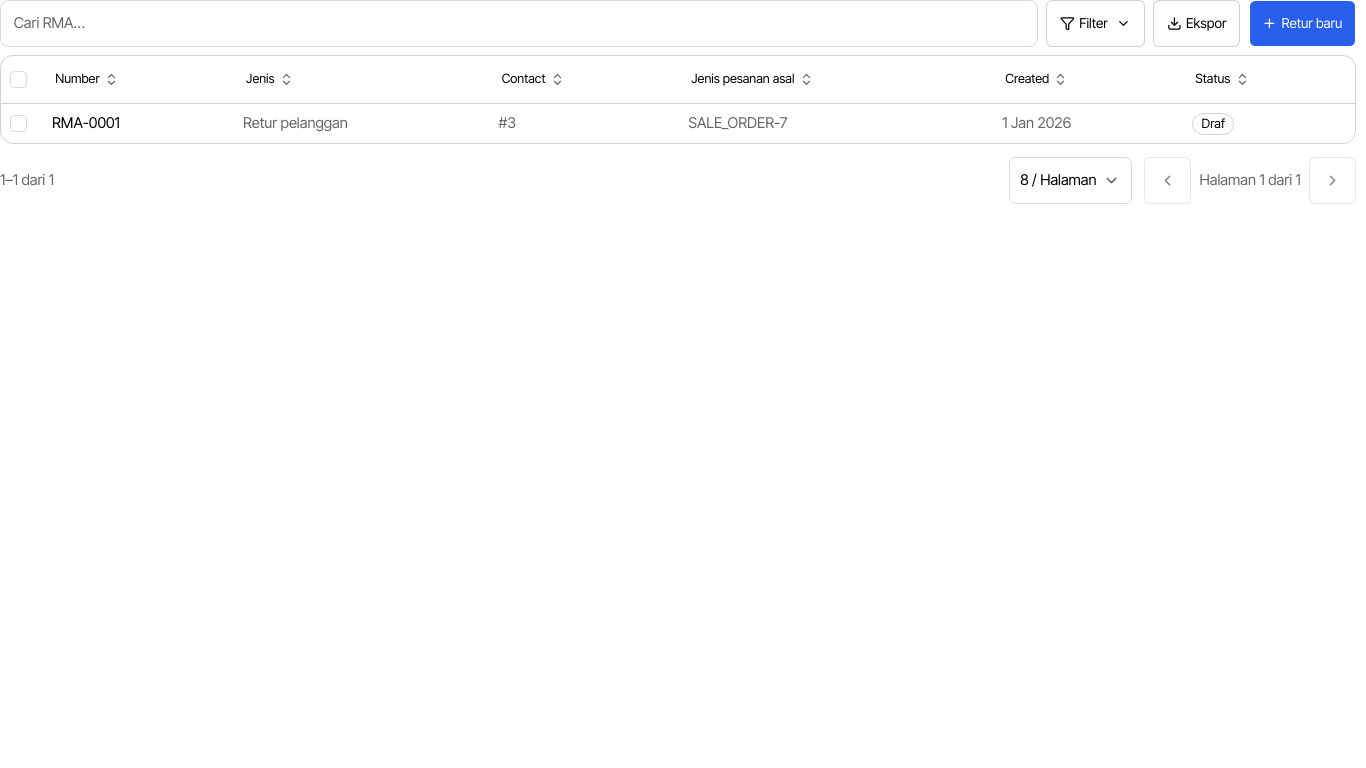
Test: RmasSection › opens the create dialog from the add button
Expected: the link "RMA-0001" is shown, [52,114,120,132]
Click the button "Retur baru".
click(1302, 23)  # box [1249,0,1356,47]
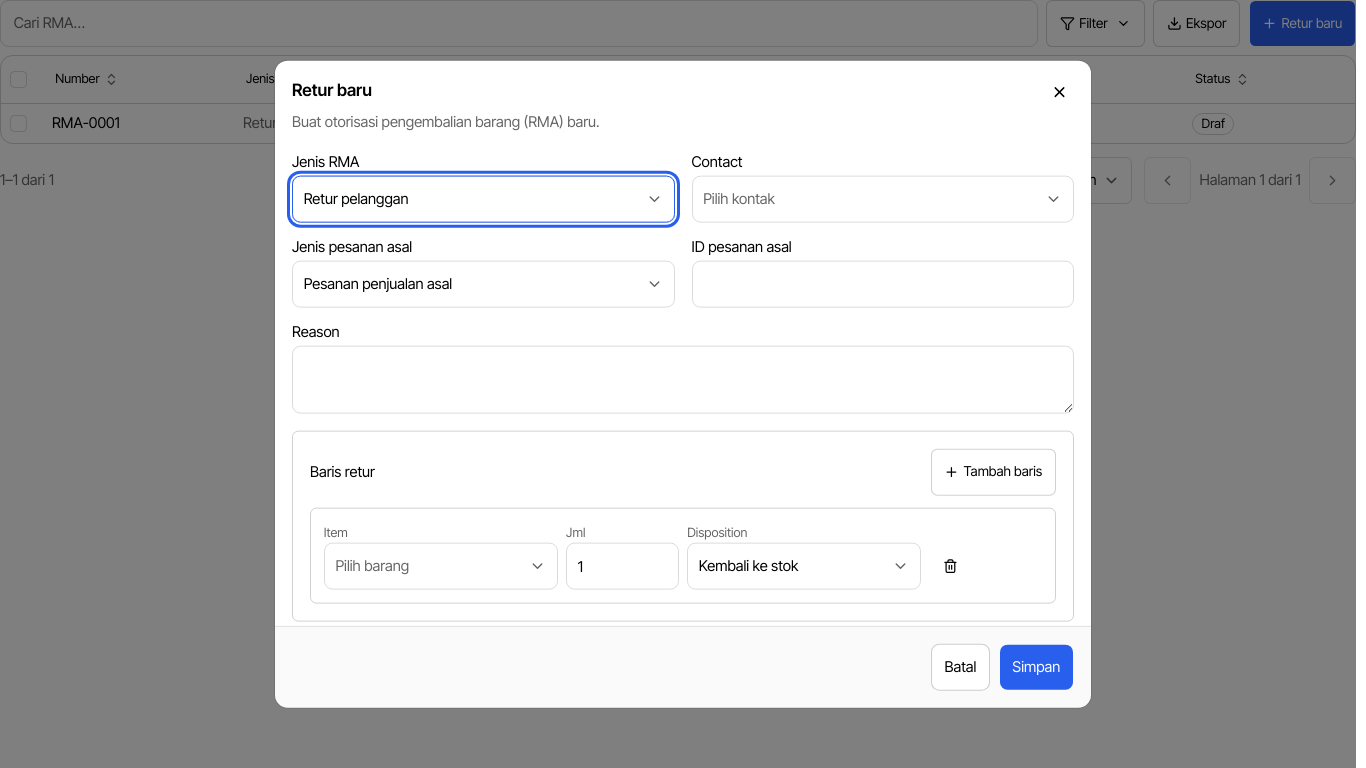
Result: the heading "Retur baru" is shown at [292,78,372,103]
